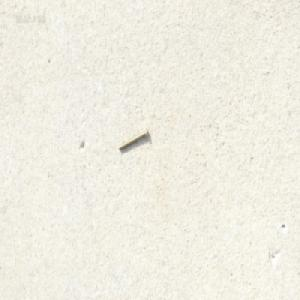Bolt: (118, 128, 148, 151)
